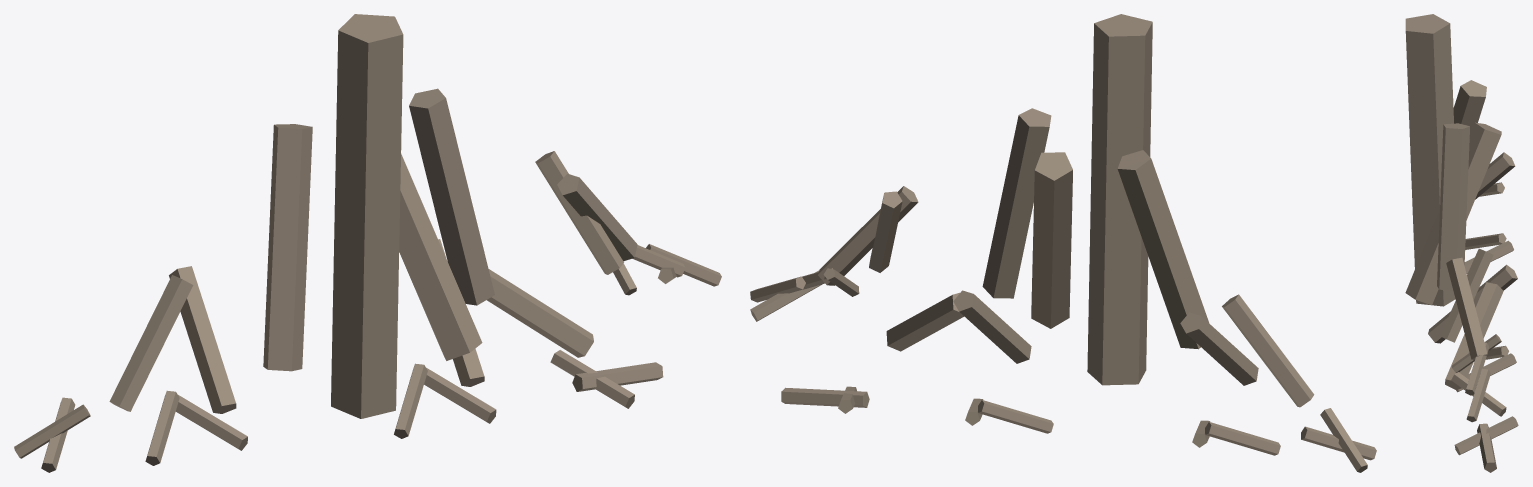
Rendered from tree_dead.dae.
3 views of the same model, side by side, from view 1: azimuth 30°, elevation 25°; view 2: azimuth 150°, elevation 25°; view 3: azimuth 270°, elevation 25° (orthographic). The views are drawn at different scales.
Parts seen in each view (by area): view 1: Cylinder, Cylinder.008, Cylinder.015, Cylinder.001, Cylinder.012, Cylinder.009, Cylinder.002, Cylinder.019, Cylinder.016, Cylinder.003, Cylinder.006, Cylinder.010 (+8 smaller); view 2: Cylinder, Cylinder.008, Cylinder.001, Cylinder.015, Cylinder.012, Cylinder.009, Cylinder.005, Cylinder.002, Cylinder.016, Cylinder.019, Cylinder.003, Cylinder.011 (+5 smaller); view 3: Cylinder, Cylinder.015, Cylinder.001, Cylinder.016, Cylinder.002, Cylinder.019, Cylinder.008, Cylinder.005, Cylinder.009, Cylinder.004, Cylinder.003, Cylinder.018 (+8 smaller).
Boxes of the visible parts, x1,y1,x2,y2 form: Cylinder: (331, 14, 403, 418); Cylinder.008: (263, 124, 312, 371); Cylinder.015: (409, 88, 494, 305); Cylinder.001: (399, 153, 482, 360); Cylinder.012: (109, 275, 193, 411); Cylinder.009: (169, 266, 236, 413); Cylinder.002: (487, 269, 593, 357); Cylinder.019: (535, 151, 623, 274); Cylinder.016: (557, 173, 637, 261); Cylinder.003: (572, 362, 663, 391); Cylinder.006: (424, 367, 496, 423); Cylinder.010: (175, 395, 247, 450); Cylinder: (1087, 14, 1152, 385); Cylinder.008: (1117, 150, 1208, 349); Cylinder.001: (1031, 152, 1072, 328); Cylinder.015: (982, 108, 1051, 298); Cylinder.012: (1222, 294, 1314, 407); Cylinder.009: (1180, 312, 1258, 385); Cylinder.005: (953, 290, 1031, 363); Cylinder.002: (886, 292, 963, 351); Cylinder.016: (818, 186, 918, 285); Cylinder.019: (869, 191, 902, 272); Cylinder.003: (781, 387, 869, 407); Cylinder.011: (1205, 422, 1280, 455); Cylinder: (1405, 14, 1455, 306); Cylinder.015: (1437, 123, 1469, 290); Cylinder.001: (1405, 122, 1501, 305); Cylinder.016: (1446, 257, 1487, 359); Cylinder.002: (1445, 282, 1503, 389); Cylinder.019: (1440, 248, 1493, 342); Cylinder.008: (1453, 80, 1486, 133); Cylinder.005: (1428, 264, 1517, 343); Cylinder.009: (1475, 152, 1515, 199); Cylinder.004: (1454, 416, 1518, 455); Cylinder.003: (1477, 423, 1496, 472); Cylinder.018: (1466, 368, 1490, 422).
Bounding box in the file's own units: 419 × 82.73 × 270.
